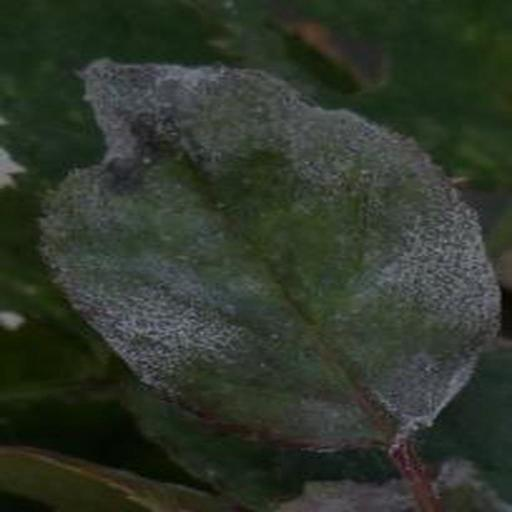powdery_mildew: (41, 60, 500, 450)
